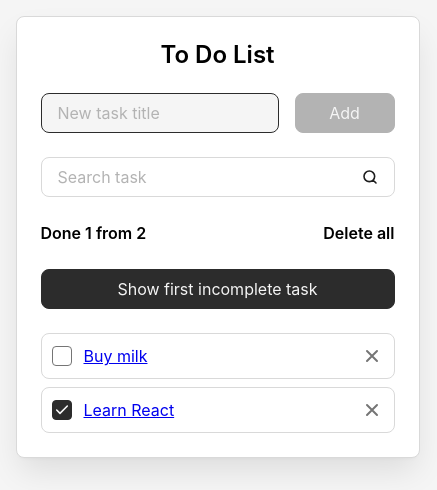
Todo › filters tasks by the search query
Expected: the checkbox named "Buy milk" next to "Buy milk" is shown, [52,346,72,366]
Type "react" into the search field labelled "Search task".
click(218, 177); type("react")  # box [40,157,394,197]
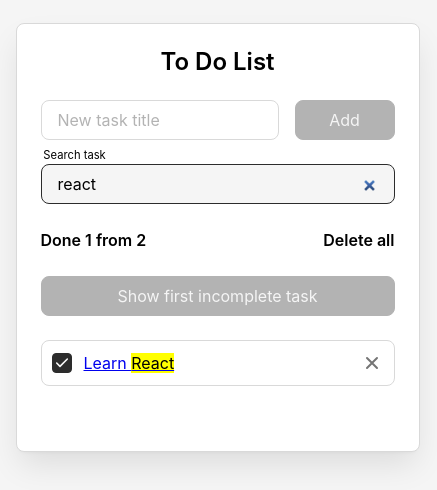
Expected: the checkbox named "Learn React" is shown, [52,353,72,373]
Expected: the link "Buy milk" is gone
